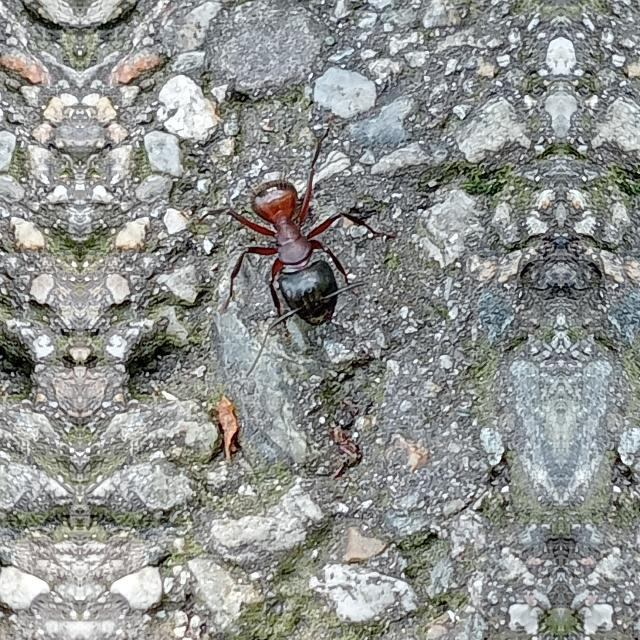Camponotus: (216, 142, 370, 356)
